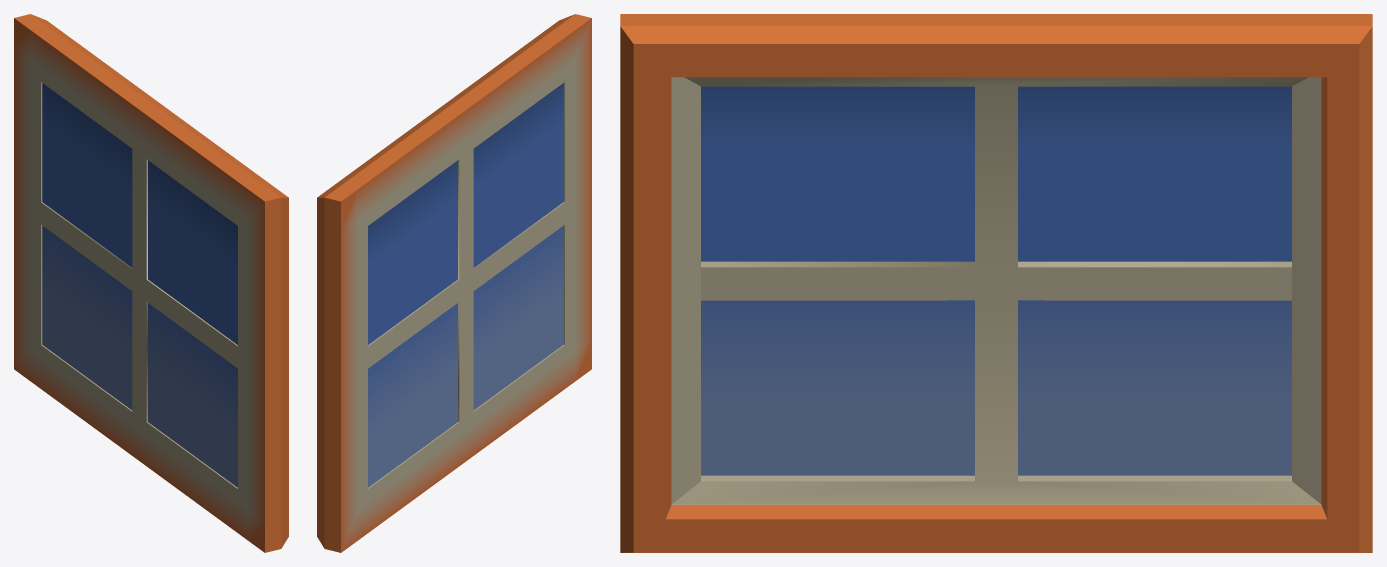
Rendered from window.fbx.
The picture shows the model from 3 angles, left to right: view 1: azimuth 30°, elevation 25°; view 2: azimuth 150°, elevation 25°; view 3: azimuth 270°, elevation 25°; orthographic projection. The views are drawn at different scales.
Visible parts, largest first — view 1: window3; view 2: window3; view 3: window3.
Boxes of the visible parts, bbox=[...] form: window3: bbox=[14, 14, 288, 552]; window3: bbox=[317, 14, 591, 552]; window3: bbox=[620, 14, 1372, 552].
Bounding box in the file's own units: 140 × 1659 × 2146.
